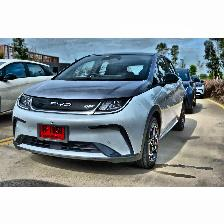EV: (13, 50, 185, 172)
